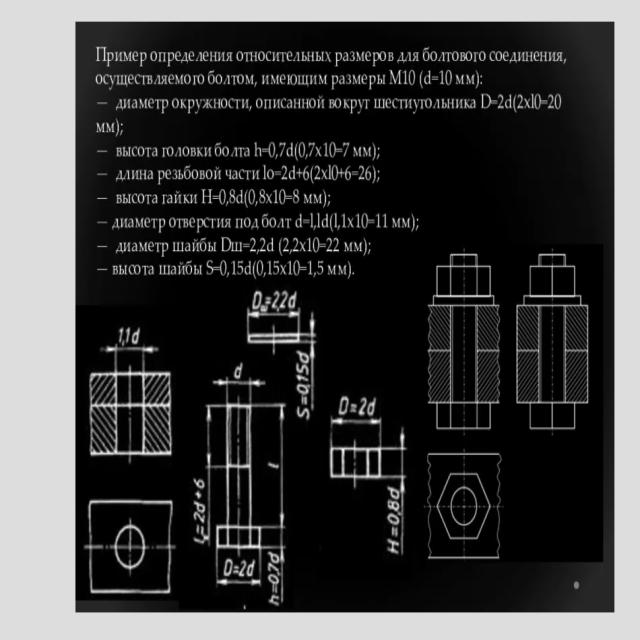marking_line: (274, 408, 285, 525), (215, 376, 268, 392), (399, 476, 407, 557), (101, 346, 164, 356), (201, 409, 213, 460), (293, 361, 309, 392), (309, 344, 317, 406), (250, 310, 298, 319)
numeric: (114, 325, 132, 345), (270, 291, 290, 308), (359, 399, 368, 418)
